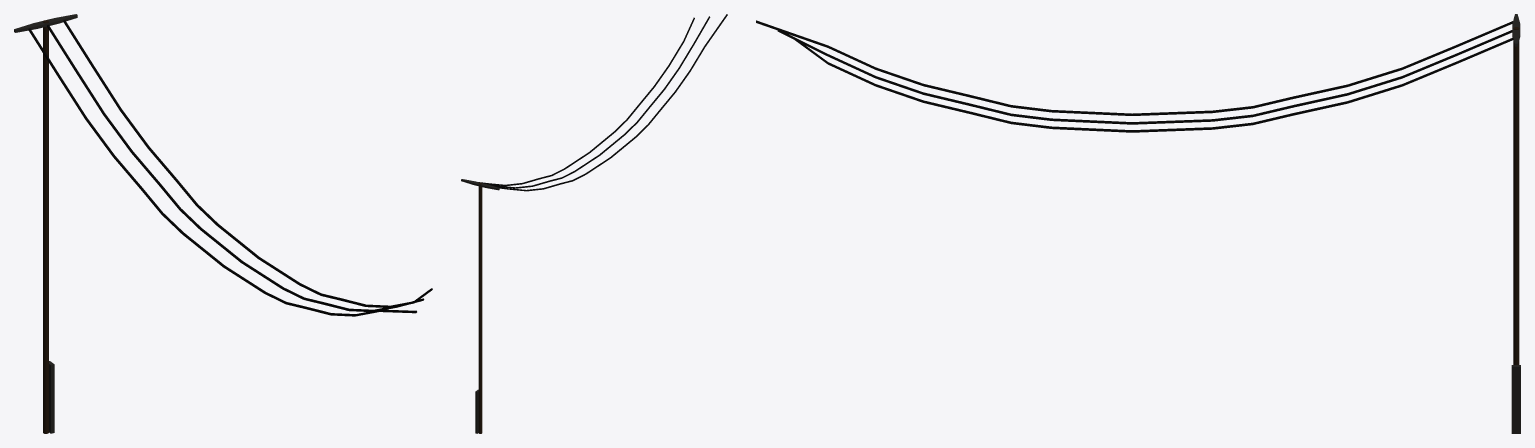
The model's file is SM_electircpylon02.FBX.
3 renders of one model, left to right at view 1: azimuth 30°, elevation 25°; view 2: azimuth 150°, elevation 25°; view 3: azimuth 270°, elevation 25°, orthographic. The views are drawn at different scales.
Visible parts, largest first — view 1: electircpylon02; view 2: electircpylon02; view 3: electircpylon02.
Part boxes in pixels (x1,y1,x2,y2): electircpylon02: [14, 14, 432, 433]; electircpylon02: [461, 14, 727, 433]; electircpylon02: [756, 14, 1520, 433].
Bounding box in the file's own units: 95.2 × 600 × 1033.
